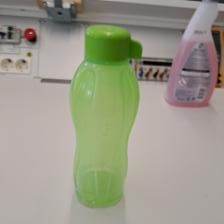bottle: (68, 24, 147, 207)
